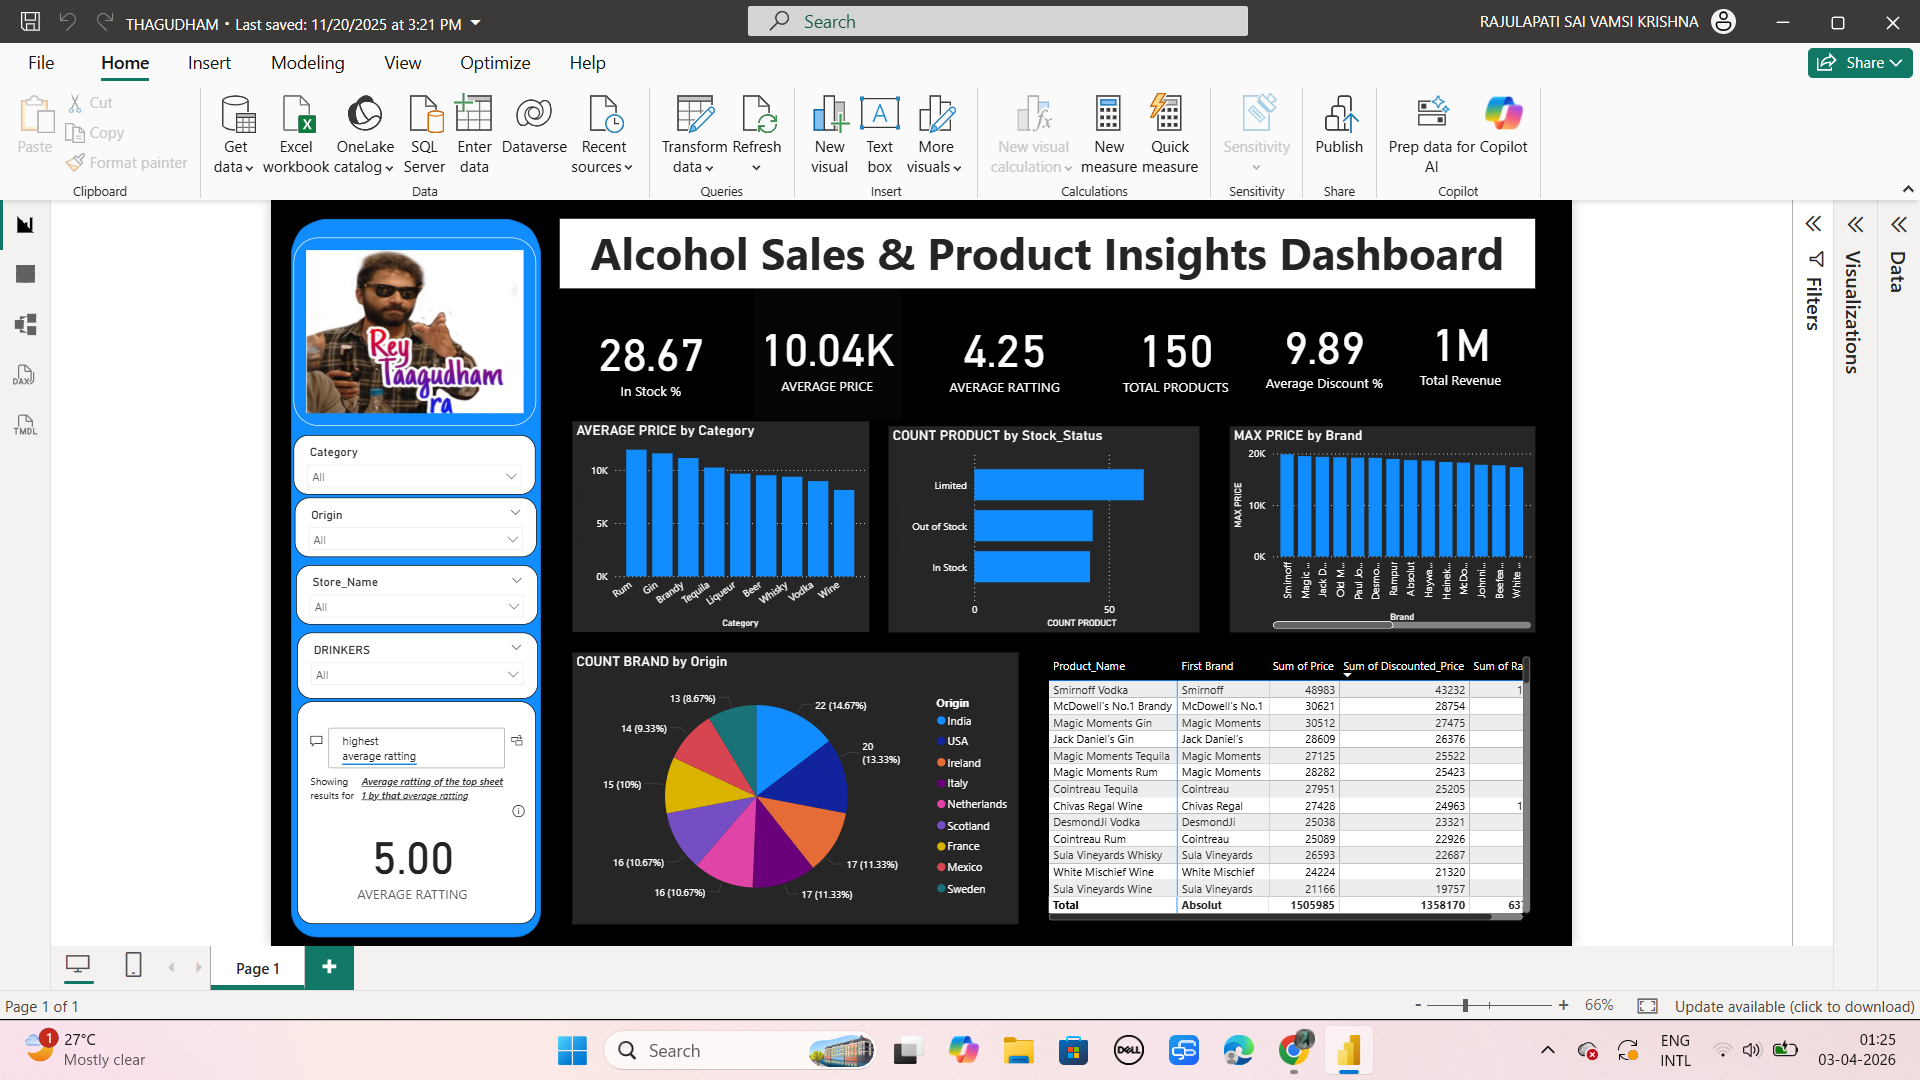

This screenshot's page, from the dashboard's own definition file:
{"tool":"powerbi","page":{"name":"Page 1","canvas":[1570,900],"ordinal":0},"visuals":[{"type":"card","fields":{"Values":["Sheet1.AVERAGE PRICE"]},"box":[582.4,106,178.4,159.9],"z":0},{"type":"card","fields":{"Values":["Sheet1.AVERAGE RATTING"]},"box":[796.1,101,178.4,171.7],"z":1000},{"type":"card","fields":{"Values":["Sheet1.In Stock %"]},"box":[363.6,109.4,190.2,163.3],"z":2000},{"type":"card","fields":{"Values":["Sheet1.TOTAL PRODUCTS"]},"box":[996.4,101,190.2,171.7],"z":3000},{"type":"clusteredColumnChart","fields":{"Category":["Sheet1.Category"],"Y":["Sheet1.AVERAGE PRICE"]},"box":[363.6,267.6,358.5,254.1],"z":4000},{"type":"barChart","fields":{"Y":["Sheet1.COUNT PRODUCT"],"Category":["Sheet1.Stock_Status"]},"box":[745.6,272.7,375.3,249.1],"z":5000},{"type":"pieChart","fields":{"Category":["Sheet1.Origin"],"Y":["Sheet1.COUNT BRAND"]},"box":[363.6,545.3,538.6,328.2],"z":6000},{"type":"columnChart","fields":{"Category":["Sheet1.Brand"],"Y":["Sheet1.MAX PRICE"]},"box":[1156.3,272.7,368.6,249.1],"z":7000},{"type":"pivotTable","fields":{"Rows":["Sheet1.Product_Name"],"Values":["Min(Sheet1.Brand)","Sum(Sheet1.Price)","Sum(Sheet1.Discounted_Price)","Sum(Sheet1.Rating)"]},"box":[934.1,545.3,590.8,328.2],"z":8000},{"type":"shape","box":[24.1,22.6,301.6,867.1],"z":9000},{"type":"slicer","fields":{"Values":["Sheet1.Category"]},"box":[27.8,283.3,292.2,72.2],"z":10000},{"type":"slicer","fields":{"Values":["Sheet1.Origin"]},"box":[28.9,358.9,292.2,72.2],"z":11000},{"type":"slicer","fields":{"Values":["Sheet1.Store_Name"]},"box":[30,440,292.2,72.2],"z":12000},{"type":"textbox","box":[348.4,21.9,1176.5,84.2],"z":13000},{"type":"card","fields":{"Values":["Sheet1.Average Discount %"]},"box":[1184.9,109.4,171.7,144.7],"z":14000},{"type":"card","fields":{"Values":["Sheet1.Total Revenue"]},"box":[1356.6,109.4,156.5,138],"z":15000},{"type":"slicer","fields":{"Values":["Sheet1.DRINKERS"]},"box":[31.1,521.1,290,80],"z":16000},{"type":"qnaVisual","box":[32.2,604.4,287.8,268.9],"z":17000},{"type":"image","box":[27.5,45,292.5,227.5],"z":18000}]}

Visuals, with their boxes on the page's 1570x900 design canvas (x1, y1, x2, y2). These are canvas units, not pixel positions in the 1920x1080 screenshot, which may show the page scaled, cropped or inside an application window:
card - Sheet1.AVERAGE PRICE: 582, 106, 761, 266
card - Sheet1.AVERAGE RATTING: 796, 101, 974, 273
card - Sheet1.In Stock %: 364, 109, 554, 273
card - Sheet1.TOTAL PRODUCTS: 996, 101, 1187, 273
clusteredColumnChart - Sheet1.Category x Sheet1.AVERAGE PRICE: 364, 268, 722, 522
barChart - Sheet1.COUNT PRODUCT x Sheet1.Stock_Status: 746, 273, 1121, 522
pieChart - Sheet1.Origin x Sheet1.COUNT BRAND: 364, 545, 902, 874
columnChart - Sheet1.Brand x Sheet1.MAX PRICE: 1156, 273, 1525, 522
pivotTable - Sheet1.Product_Name x Min(Sheet1.Brand): 934, 545, 1525, 874
shape: 24, 23, 326, 890
slicer - Sheet1.Category: 28, 283, 320, 356
slicer - Sheet1.Origin: 29, 359, 321, 431
slicer - Sheet1.Store_Name: 30, 440, 322, 512
textbox: 348, 22, 1525, 106
card - Sheet1.Average Discount %: 1185, 109, 1357, 254
card - Sheet1.Total Revenue: 1357, 109, 1513, 247
slicer - Sheet1.DRINKERS: 31, 521, 321, 601
qnaVisual: 32, 604, 320, 873
image: 28, 45, 320, 272
